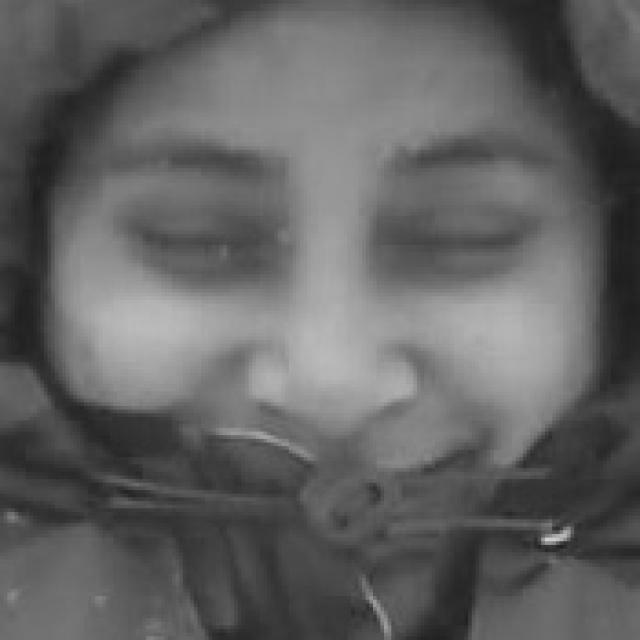real: (88, 0, 582, 545), (128, 190, 552, 290)
